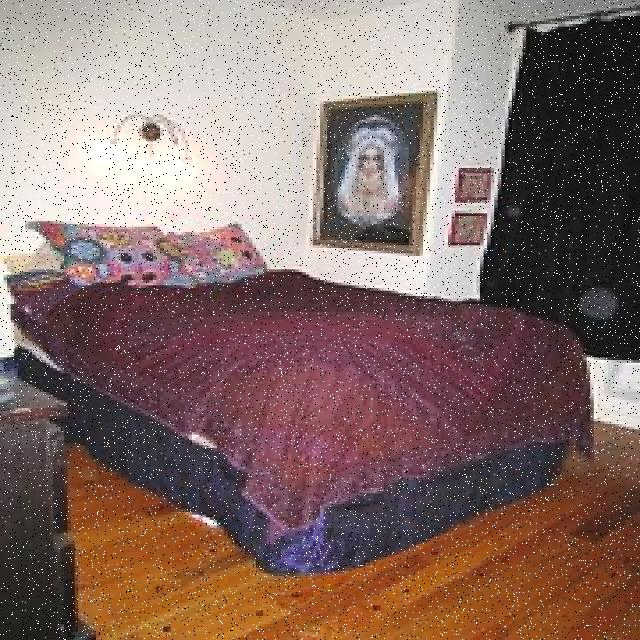bed: (8, 205, 600, 531)
